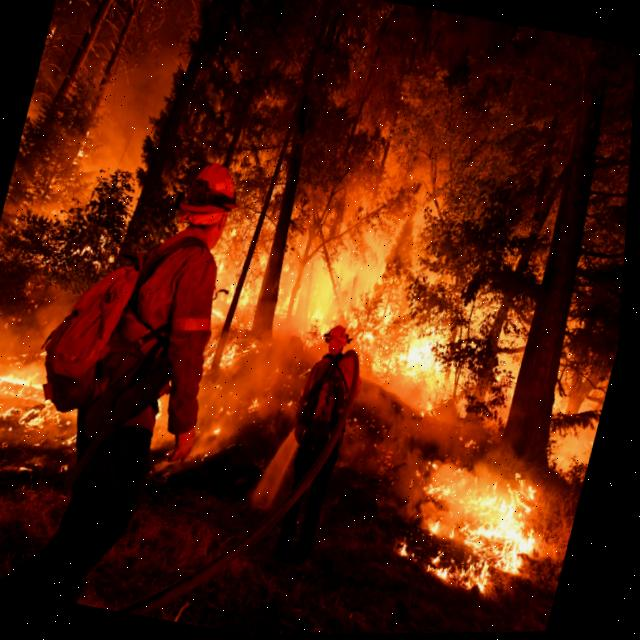smoke: (201, 0, 637, 403)
